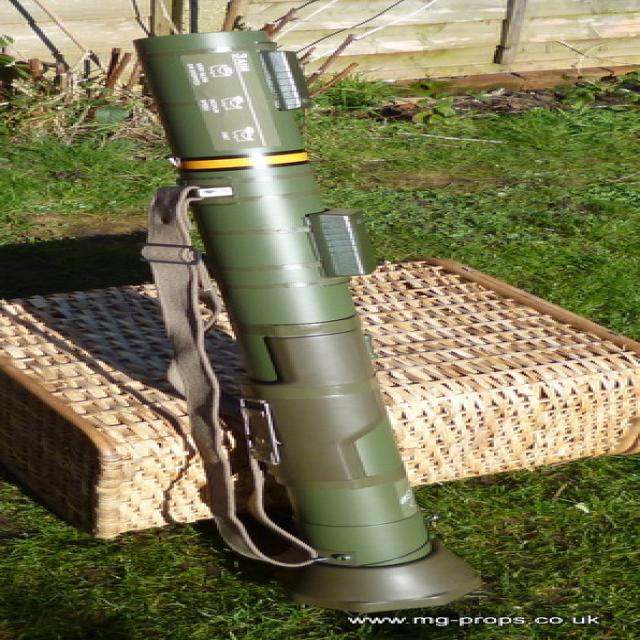bazooka: (72, 24, 578, 628)
